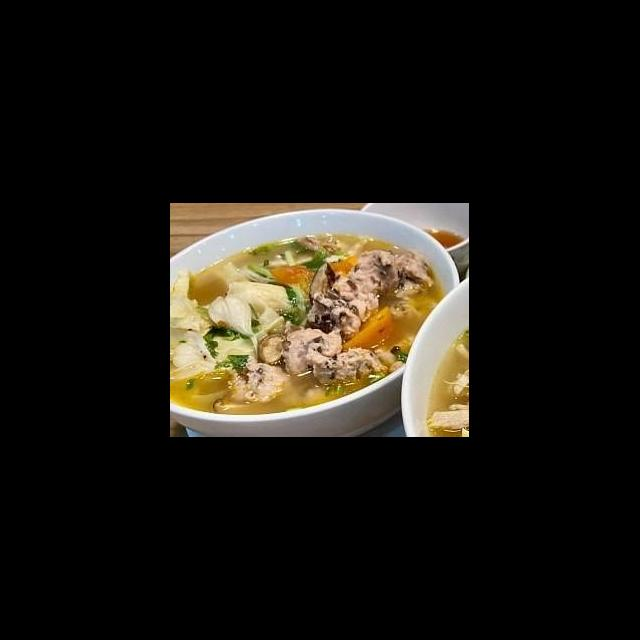vien moc: (278, 319, 348, 380), (302, 343, 388, 389), (224, 354, 296, 405), (392, 248, 436, 301)
